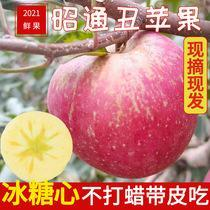apple: (48, 31, 197, 180), (1, 112, 71, 184)
